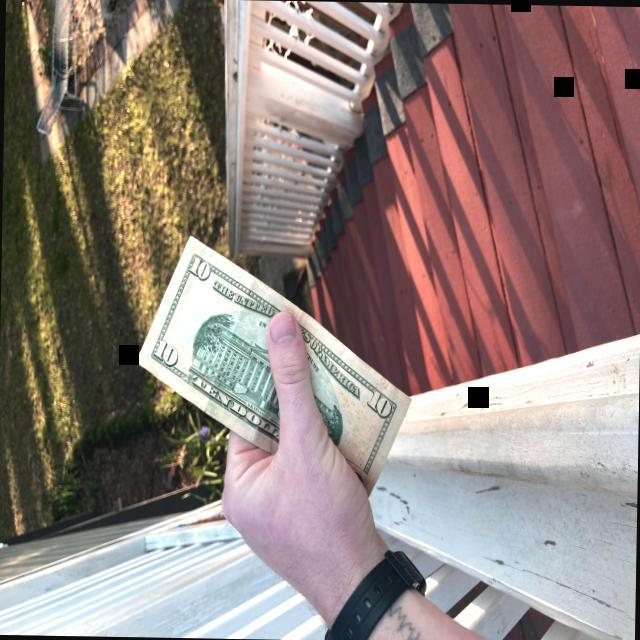ten: (135, 233, 410, 506)
